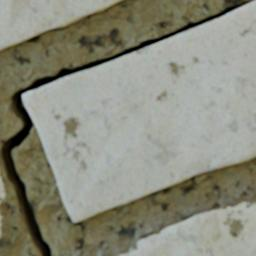brick: (23, 1, 255, 221), (0, 0, 122, 50), (0, 176, 5, 198), (0, 213, 2, 237)
broken_brick: (119, 201, 255, 255)
crack: (1, 0, 255, 255), (136, 245, 139, 254)
